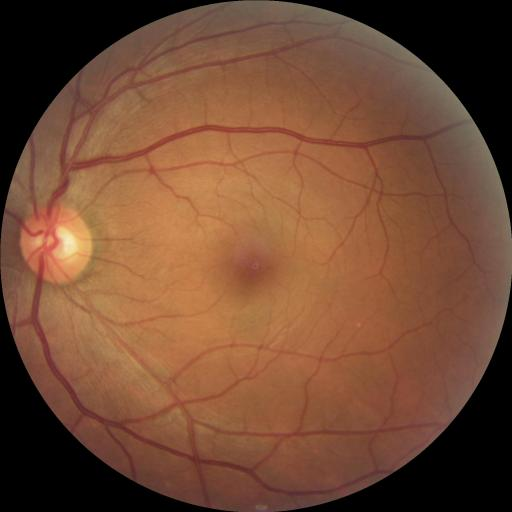Optic Cup: (39, 226, 78, 261)
Optic Disc: (20, 204, 92, 284)
